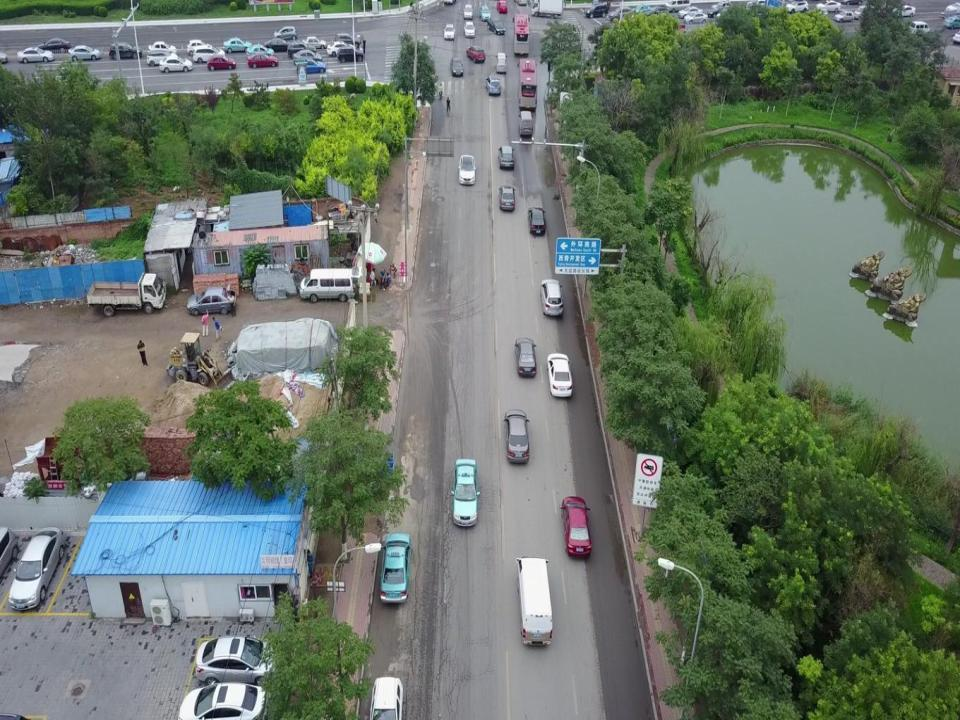bus: (516, 58, 538, 110), (512, 12, 531, 55)
car: (7, 524, 64, 620), (194, 632, 279, 684), (175, 681, 272, 720), (380, 532, 411, 603), (559, 496, 592, 557), (450, 459, 480, 526), (369, 676, 405, 720), (185, 284, 237, 314), (502, 409, 530, 464), (546, 351, 572, 398), (0, 526, 20, 576), (540, 277, 563, 318), (514, 337, 536, 375), (14, 46, 54, 63), (107, 42, 142, 60), (526, 205, 546, 236), (456, 154, 476, 184), (158, 55, 193, 72), (66, 45, 100, 62), (146, 50, 180, 67), (190, 45, 224, 62), (204, 52, 236, 70), (325, 40, 361, 56), (333, 32, 367, 48), (530, 0, 564, 16), (498, 184, 516, 212), (221, 35, 252, 51), (186, 38, 216, 54), (245, 53, 278, 67), (336, 45, 364, 61), (287, 40, 316, 55), (146, 42, 177, 56), (272, 25, 300, 40), (37, 38, 71, 50), (297, 60, 326, 74), (293, 50, 322, 64), (260, 38, 288, 52), (497, 145, 514, 168), (609, 4, 631, 21), (299, 35, 327, 48), (466, 44, 486, 62), (584, 4, 608, 19), (784, 0, 808, 14), (485, 74, 500, 96), (246, 44, 273, 56), (487, 17, 506, 34), (890, 5, 916, 17), (678, 6, 702, 18), (716, 9, 740, 21), (708, 5, 732, 17), (644, 5, 666, 18), (633, 2, 652, 17), (450, 56, 464, 76), (684, 11, 707, 23), (815, 0, 840, 10), (834, 8, 854, 20), (942, 15, 960, 28), (462, 20, 475, 36), (443, 23, 455, 40), (712, 0, 732, 10), (745, 0, 770, 8), (479, 4, 491, 20), (496, 0, 510, 13), (945, 2, 960, 13), (463, 4, 473, 18)
truck: (86, 272, 165, 316)
van: (299, 264, 365, 300), (664, 0, 692, 14), (518, 110, 532, 136), (855, 4, 876, 21), (908, 21, 930, 36), (495, 51, 507, 72)
